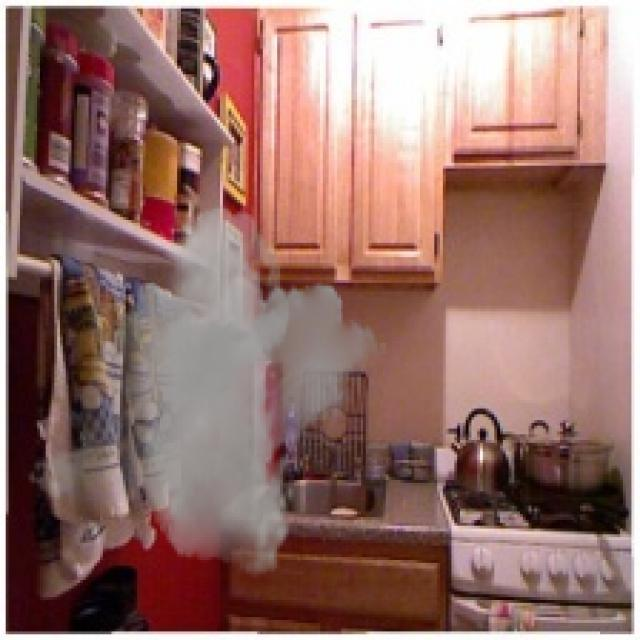smoke: (26, 206, 388, 577)
